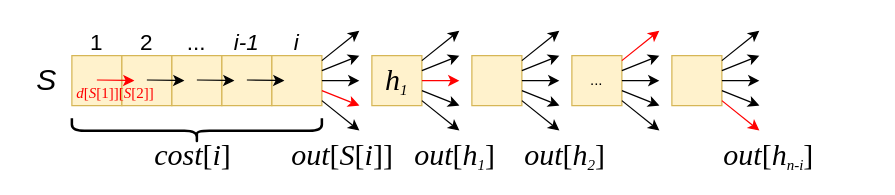
Some shapes in this 895 by 195 pixel diagram are drawn without their labels. Each missing label, with the centre of its shape:
"h 2" belongs at point 496,80.
"h n-i" belongs at point 696,80.
